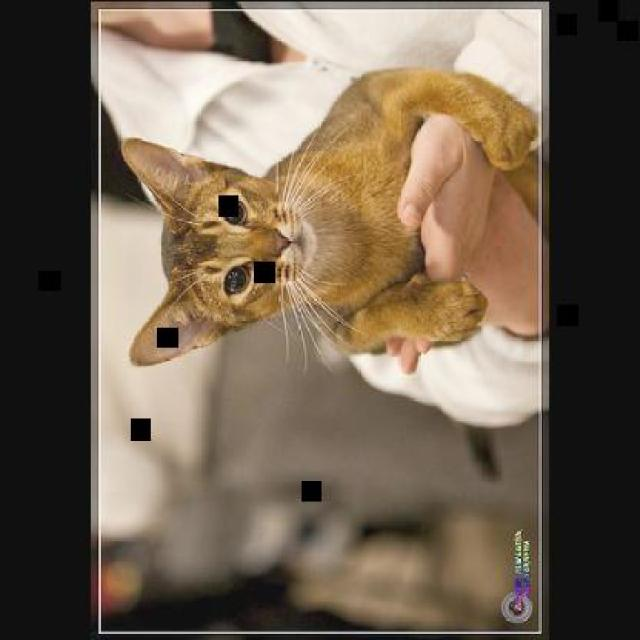unauthorized: (118, 66, 537, 374)
